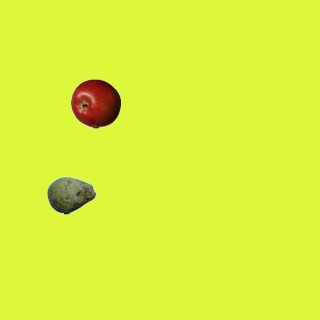Apple Braeburn: (70, 78, 120, 128)
Pear Stone: (46, 170, 96, 220)
